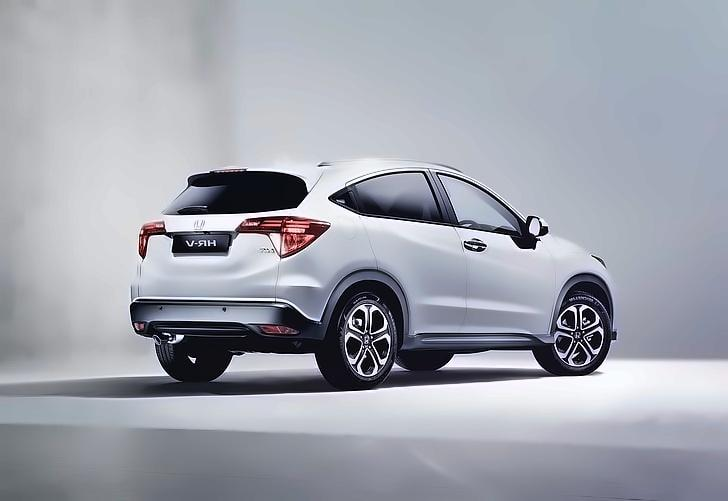Car boot: (139, 167, 280, 303)
Driver-s door - -F-R-: (448, 166, 555, 335)
Fender - -F-R-: (545, 233, 600, 334)
Fender - -R-R-: (307, 205, 380, 286)
Front bumper: (600, 271, 626, 343)
Passenger-s door - -R-R-: (351, 165, 466, 338)
Rear bumper: (125, 260, 342, 356)
Rear light - -L-: (135, 219, 170, 261)
Rear light - -R-: (233, 213, 335, 262), (588, 251, 612, 268)
Side bumper - -R-: (395, 328, 560, 355)
Side mirror - -R-: (522, 209, 554, 243)
